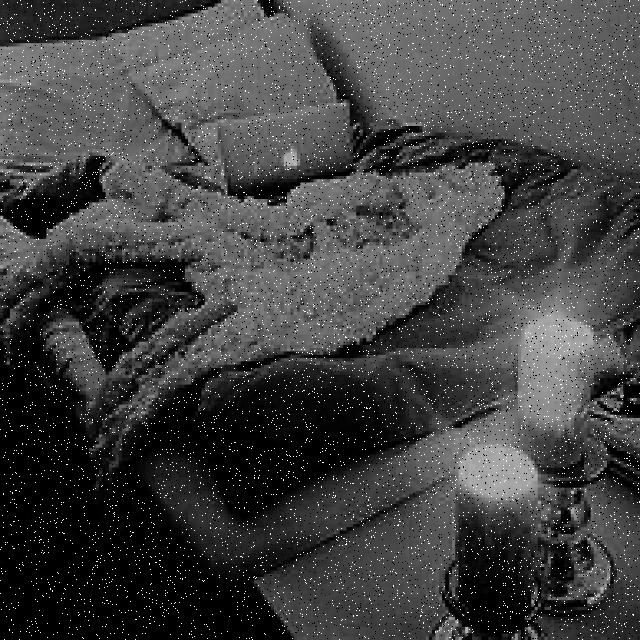bed: (19, 29, 640, 466)
